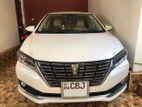car: (16, 12, 130, 104)
